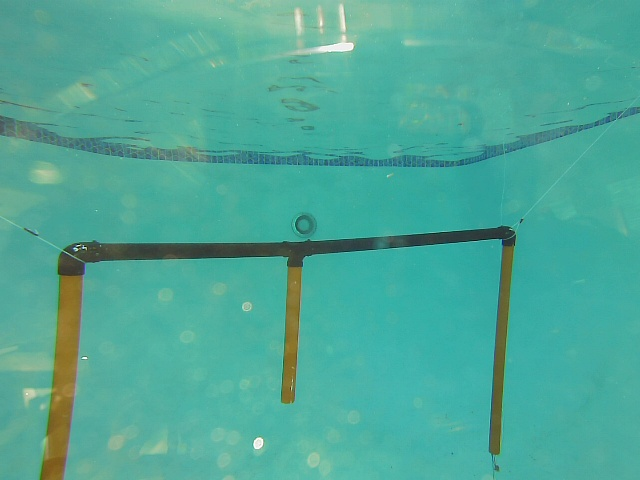Gate: (34, 266, 84, 480), (482, 242, 516, 458), (275, 258, 302, 409)
